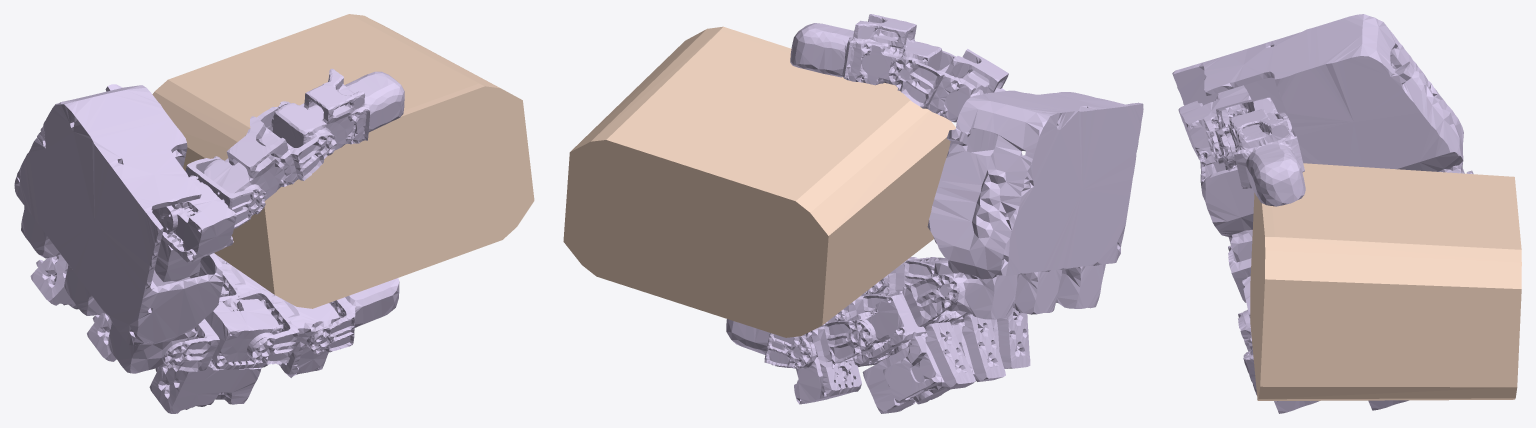
File: 5fd2b409796806-closed.glb
3 views of the same model, side by side, from view 1: azimuth 30°, elevation 25°; view 2: azimuth 150°, elevation 25°; view 3: azimuth 270°, elevation 25° (orthographic).
Visible parts, largest first — view 1: LEAP_hand, world; view 2: world, LEAP_hand; view 3: world, LEAP_hand.
Part boxes in pixels (bbox=[...]): LEAP_hand: bbox=[14, 68, 404, 413]; world: bbox=[152, 14, 534, 308]; world: bbox=[563, 26, 955, 337]; LEAP_hand: bbox=[726, 14, 1143, 413]; world: bbox=[1250, 163, 1521, 400]; LEAP_hand: bbox=[1172, 14, 1473, 413].
Size of the model in its own units: 0.2402 by 0.1697 by 0.1697.
